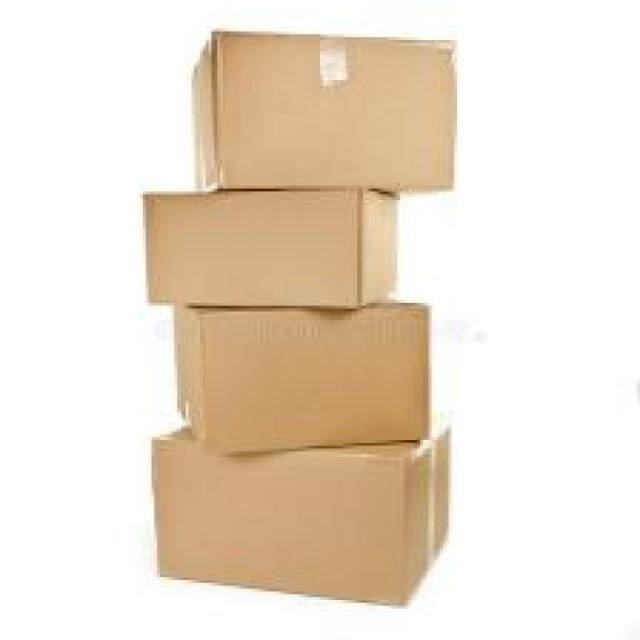box: (149, 418, 453, 608), (186, 29, 457, 193), (169, 298, 434, 458), (140, 188, 400, 314)
